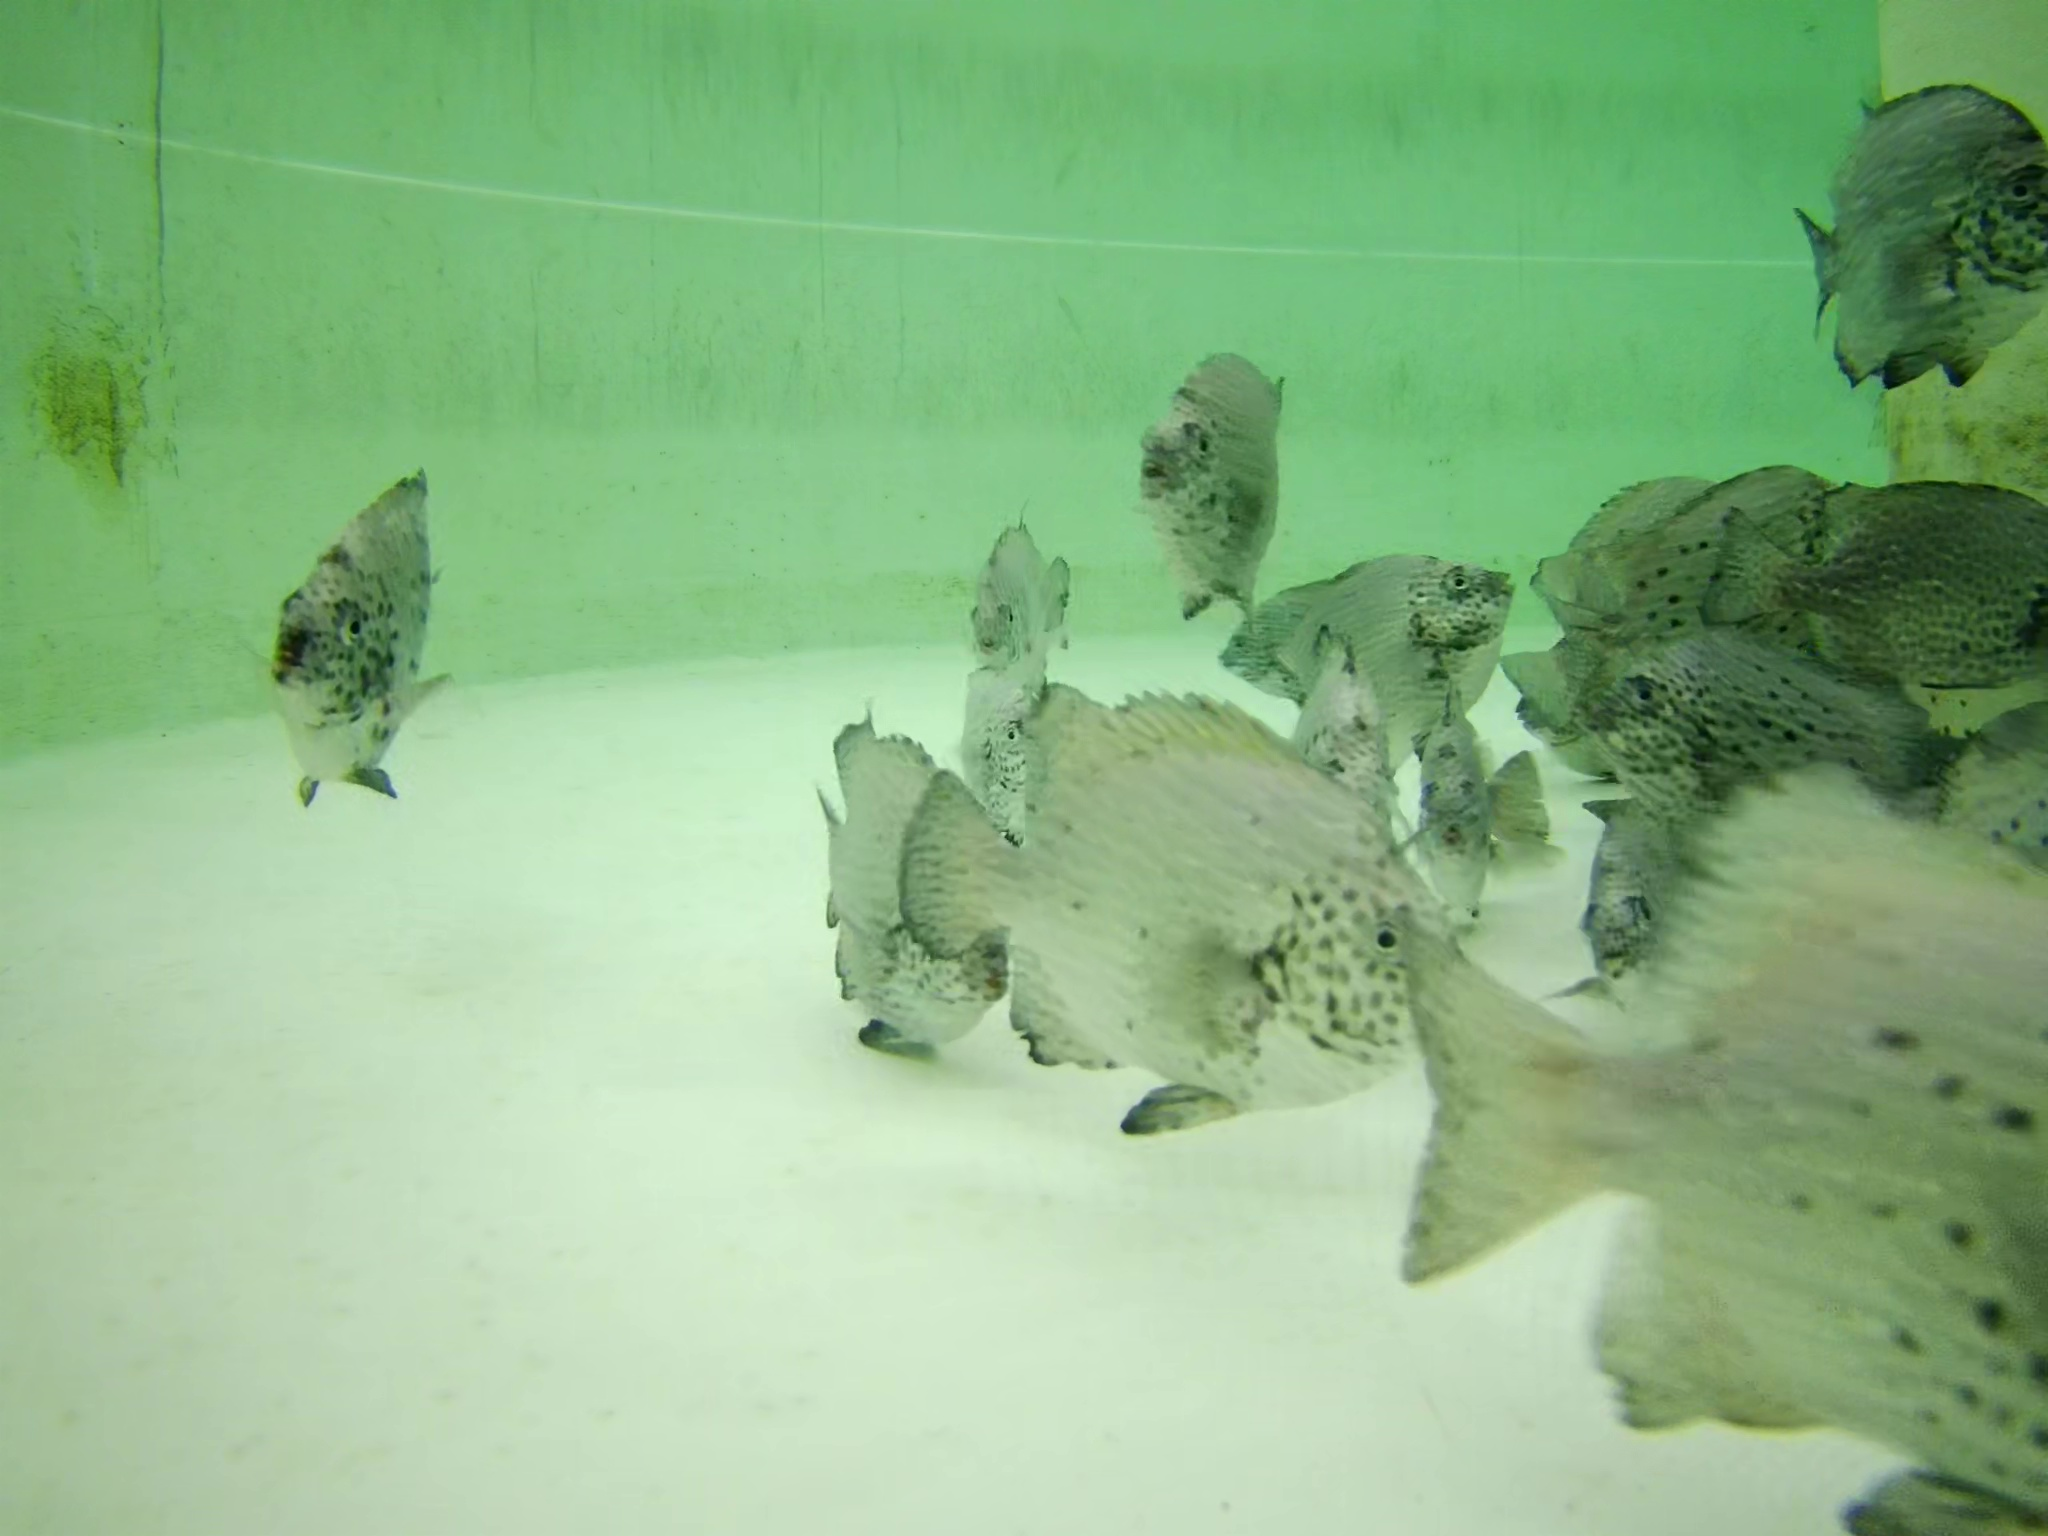fish: (1393, 774, 2048, 1486), (922, 676, 1453, 1137), (1566, 618, 1961, 813), (1806, 86, 2048, 389), (1709, 474, 2048, 686), (266, 457, 455, 791), (1227, 545, 1521, 750), (814, 726, 993, 1037), (1563, 470, 1859, 632), (1147, 332, 1292, 616), (1830, 707, 2048, 889), (1416, 700, 1566, 957), (1535, 474, 1756, 626), (947, 513, 1069, 765), (1585, 779, 1690, 1037), (1292, 623, 1397, 874)
